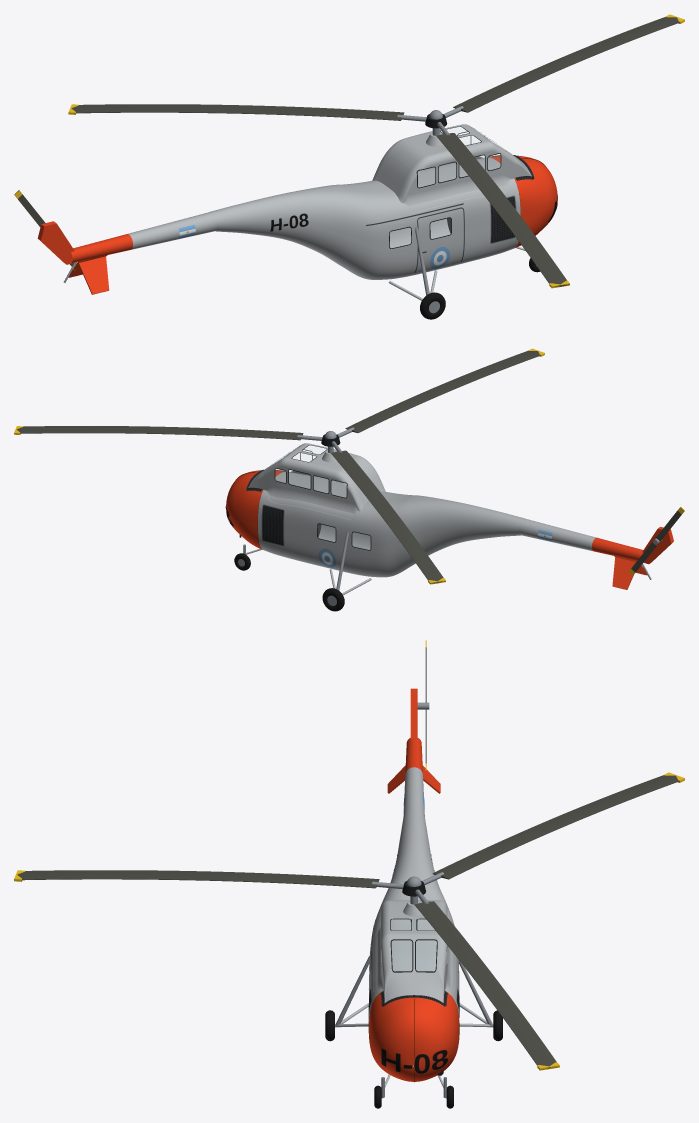
File: Sikorsky_S55_H08.glb
The picture shows the model from 3 angles, top to bottom: view 1: azimuth 30°, elevation 25°; view 2: azimuth 150°, elevation 25°; view 3: azimuth 270°, elevation 25°; orthographic projection. The views are drawn at different scales.
Visible parts, largest first — view 1: Fuselaje, Rotor principal, Cabina de pilotos, Cola, Trompa (puertas del motor), Tren de aterrizaje, Carenado de la cabina, Vidrios de la cabina de pilotos, Ventanas de la cabina de carga, Rejilla del motor; view 2: Fuselaje, Rotor principal, Cabina de pilotos, Cola, Trompa (puertas del motor), Tren de aterrizaje, Vidrios de la cabina de pilotos, Carenado de la cabina, Rejilla del motor, Rotor de cola, Ventanas de la cabina de carga, Marcos de las ventanas; view 3: Rotor principal, Trompa (puertas del motor), Fuselaje, Cabina de pilotos, Cola, Tren de aterrizaje, Vidrios de la cabina de pilotos.
Boxes of the visible parts, left/top/right/bottom form: Fuselaje: left=211, top=157, right=520, bottom=279; Rotor principal: left=68, top=14, right=684, bottom=288; Cabina de pilotos: left=372, top=124, right=531, bottom=203; Cola: left=37, top=211, right=217, bottom=294; Trompa (puertas del motor): left=489, top=155, right=557, bottom=247; Tren de aterrizaje: left=388, top=227, right=540, bottom=319; Carenado de la cabina: left=403, top=175, right=512, bottom=213; Vidrios de la cabina de pilotos: left=418, top=127, right=500, bottom=186; Ventanas de la cabina de carga: left=390, top=218, right=450, bottom=247; Rejilla del motor: left=489, top=195, right=516, bottom=243; Fuselaje: left=258, top=471, right=523, bottom=577; Rotor principal: left=14, top=348, right=544, bottom=584; Cabina de pilotos: left=248, top=443, right=385, bottom=511; Cola: left=519, top=518, right=673, bottom=589; Trompa (puertas del motor): left=226, top=470, right=284, bottom=549; Tren de aterrizaje: left=234, top=531, right=371, bottom=611; Vidrios de la cabina de pilotos: left=276, top=446, right=346, bottom=496; Carenado de la cabina: left=265, top=487, right=358, bottom=520; Rejilla del motor: left=261, top=504, right=284, bottom=546; Rotor de cola: left=628, top=507, right=684, bottom=574; Ventanas de la cabina de carga: left=318, top=524, right=369, bottom=549; Marcos de las ventanas: left=274, top=445, right=347, bottom=498; Rotor principal: left=14, top=772, right=684, bottom=1070; Trompa (puertas del motor): left=369, top=991, right=459, bottom=1081; Fuselaje: left=369, top=810, right=459, bottom=1066; Cabina de pilotos: left=381, top=900, right=447, bottom=1002; Cola: left=387, top=688, right=440, bottom=816; Tren de aterrizaje: left=325, top=955, right=502, bottom=1108; Vidrios de la cabina de pilotos: left=391, top=920, right=436, bottom=970.
Bounding box in the file's own units: 18.13 × 4.47 × 13.39.
Materials: 26 (10 with a texture image).
